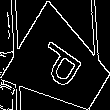P_SE: (32, 37, 91, 95)
